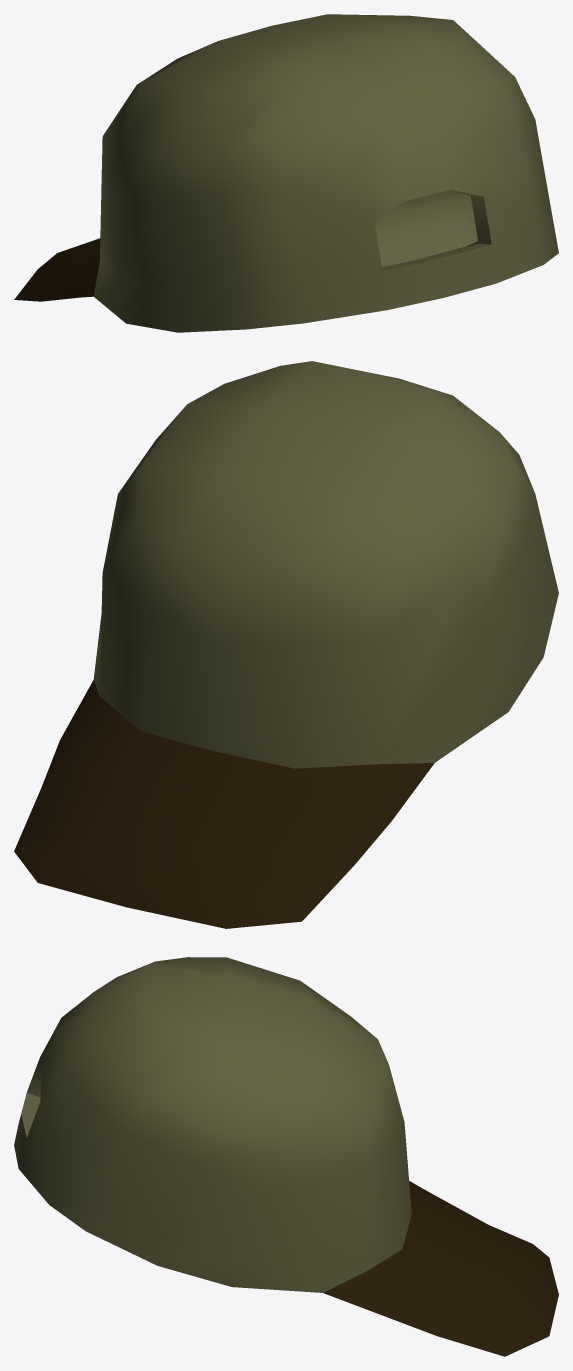
The model's file is cap_backwards.fbx.
3 views of the same model, one above another, from view 1: azimuth 30°, elevation 25°; view 2: azimuth 150°, elevation 25°; view 3: azimuth 270°, elevation 25° (orthographic). The views are drawn at different scales.
Parts seen in each view (by area): view 1: cap_backwards; view 2: cap_backwards; view 3: cap_backwards.
Part boxes in pixels (x1,y1,x2,y2): cap_backwards: [14, 14, 558, 332]; cap_backwards: [14, 361, 558, 928]; cap_backwards: [14, 957, 558, 1356].
Bounding box in the file's own units: 13.49 × 12.16 × 19.44.
